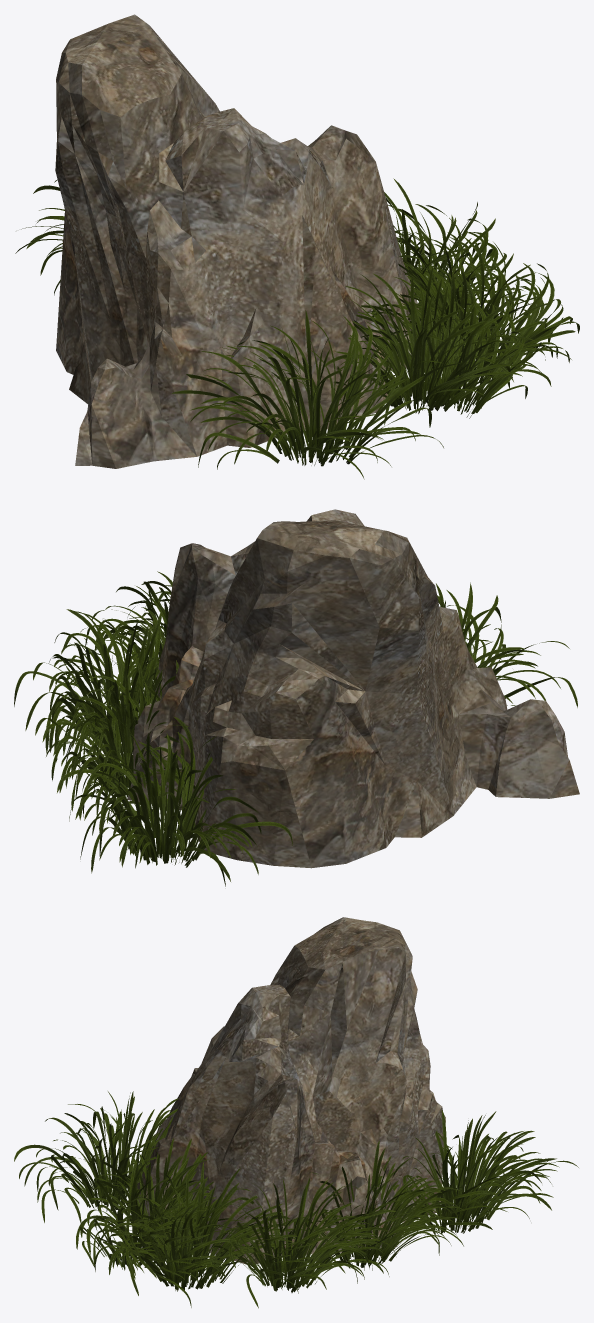
File: 5S_16Rock2.FBX
3 views of the same model, one above another, from view 1: azimuth 30°, elevation 25°; view 2: azimuth 150°, elevation 25°; view 3: azimuth 270°, elevation 25° (orthographic). The views are drawn at different scales.
Visible parts, largest first — view 1: 5S_14rock2_11; view 2: 5S_14rock2_11; view 3: 5S_14rock2_11.
Part boxes in pixels (x1,y1,x2,y2): 5S_14rock2_11: (15, 14, 579, 479); 5S_14rock2_11: (14, 509, 579, 886); 5S_14rock2_11: (14, 917, 578, 1308).
Size of the model in its own units: 2.79 by 1.72 by 3.47.
2 materials, 2 textured.
